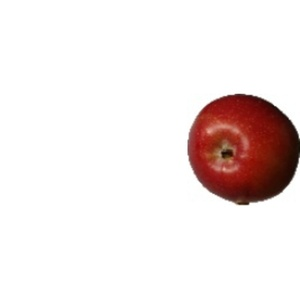maçã braeburn: (188, 93, 300, 200)
